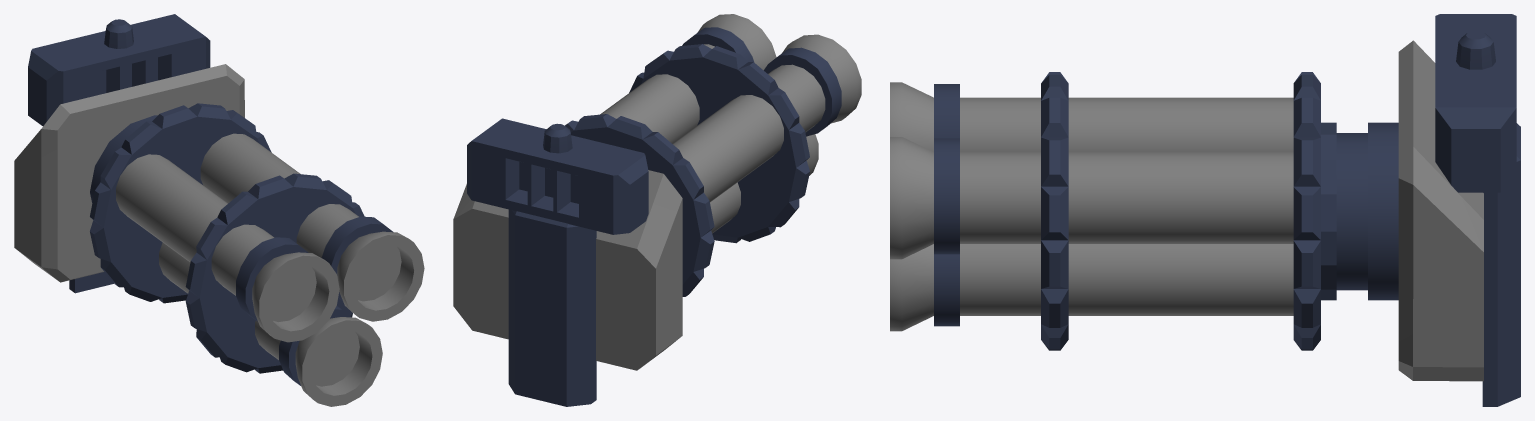
File: CarSurv_Lv3Gun.fbx
The picture shows the model from 3 angles, left to right: view 1: azimuth 30°, elevation 25°; view 2: azimuth 150°, elevation 25°; view 3: azimuth 270°, elevation 25°; orthographic projection. The views are drawn at different scales.
Parts seen in each view (by area): view 1: Box007, Object001, barrel1, ring2, Box009, ring1, barrell; view 2: Box009, Box007, Object001, ring1, ring2, barrel1, barrell; view 3: barrel1, barrell, Box009, Box007, ring2, Object001, ring1.
Part boxes in pixels (<box>): Box007: <box>14,64,244,282</box>; Object001: <box>116,154,339,342</box>; barrel1: <box>200,133,424,321</box>; ring2: <box>90,103,271,303</box>; Box009: <box>28,14,210,293</box>; ring1: <box>185,173,364,373</box>; barrell: <box>159,242,382,406</box>; Box009: <box>467,118,648,406</box>; Box007: <box>453,170,682,370</box>; Object001: <box>673,34,861,202</box>; ring1: <box>629,44,809,243</box>; ring2: <box>565,114,714,296</box>; barrel1: <box>600,14,776,143</box>; barrell: <box>710,134,818,233</box>; barrel1: <box>890,137,1293,259</box>; barrell: <box>890,244,1293,331</box>; Box009: <box>1435,14,1520,406</box>; Box007: <box>1398,40,1483,381</box>; ring2: <box>1293,72,1398,350</box>; Object001: <box>890,82,1293,151</box>; ring1: <box>1041,72,1068,350</box>.
Size of the model in its own units: 20 by 24.64 by 40.81.
